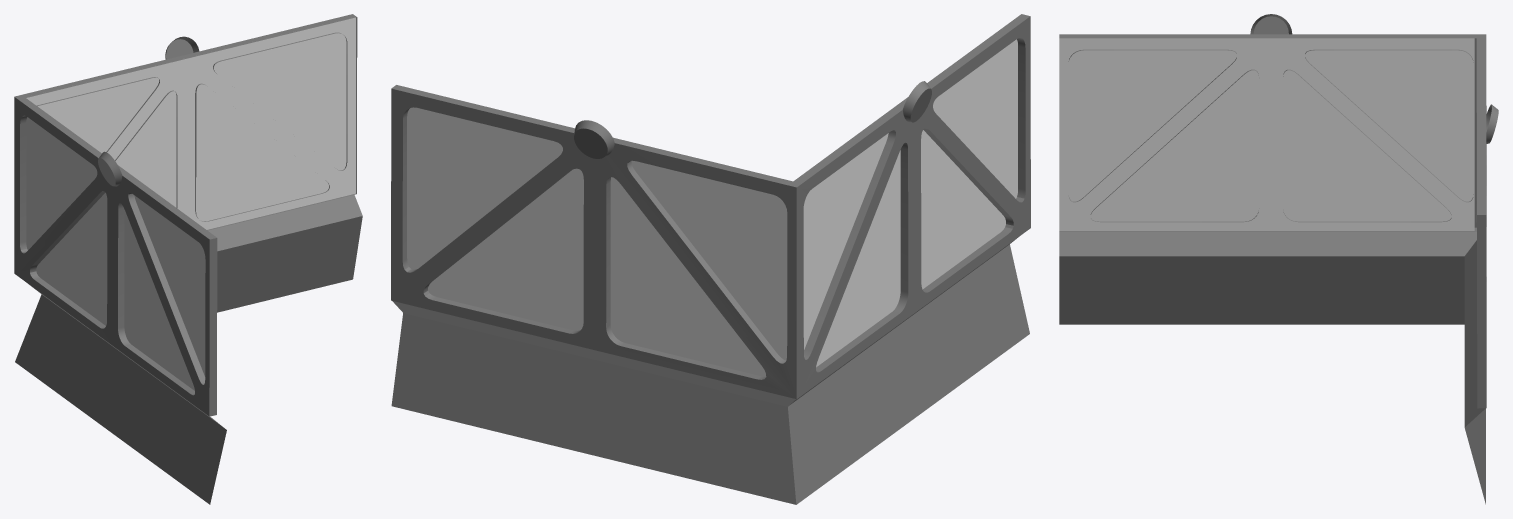
Rendered from q-scifi-mod-wallwindow-corner-square-outer.glb.
3 views of the same model, side by side, from view 1: azimuth 30°, elevation 25°; view 2: azimuth 150°, elevation 25°; view 3: azimuth 270°, elevation 25° (orthographic). The views are drawn at different scales.
Visible parts, largest first — view 1: WallWindow_Corner_Square_Outer; view 2: WallWindow_Corner_Square_Outer; view 3: WallWindow_Corner_Square_Outer.
Boxes of the visible parts, left/top/right/bottom form: WallWindow_Corner_Square_Outer: left=14, top=14, right=362, bottom=504; WallWindow_Corner_Square_Outer: left=391, top=14, right=1030, bottom=504; WallWindow_Corner_Square_Outer: left=1059, top=14, right=1498, bottom=504.
Size of the model in its own units: 4.12 by 3.19 by 4.12.
Materials: 4 (3 with a texture image).
